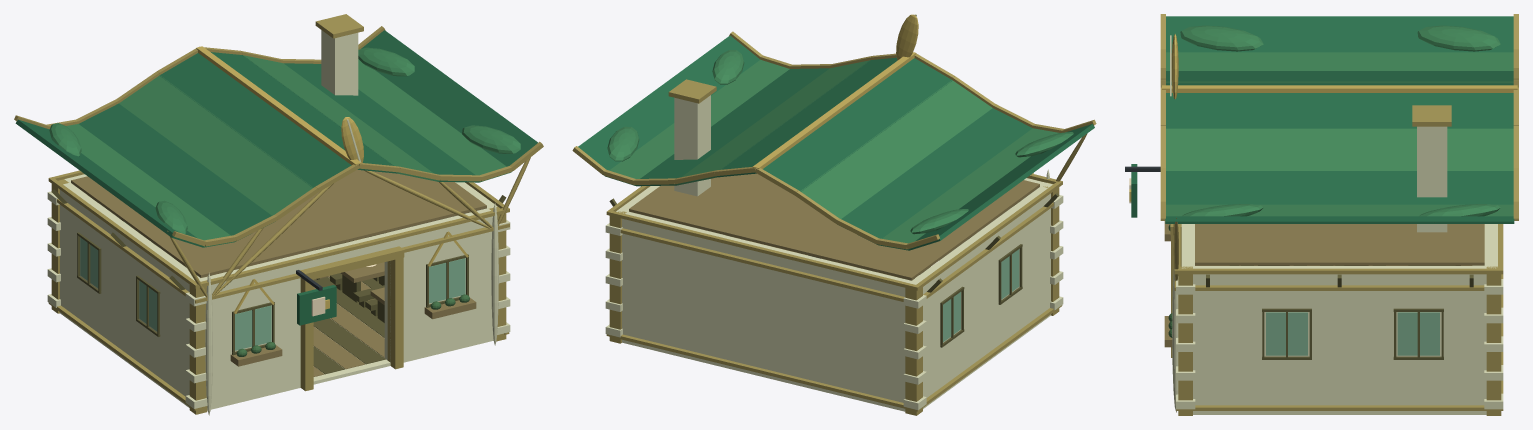
The model's file is Tavern.glb.
3 renders of one model, left to right at view 1: azimuth 30°, elevation 25°; view 2: azimuth 150°, elevation 25°; view 3: azimuth 270°, elevation 25°, orthographic. The views are drawn at different scales.
Parts seen in each view (by area): view 1: Tavern_095_Ceiling, Tavern_002_Side, Tavern_257_ProfileRoof, Tavern_040_FrontWing, Tavern_003_FrontWing, Tavern_254_ProfileRoof, Tavern_260_ProfileRoof, Tavern_281_ProfileRoof, Tavern_278_ProfileRoof, Tavern_275_ProfileRoof, Tavern_263_ProfileRoof, Tavern_272_ProfileRoof (+39 smaller); view 2: Tavern_001_Rear, Tavern_095_Ceiling, Tavern_002_Side, Tavern_257_ProfileRoof, Tavern_254_ProfileRoof, Tavern_260_ProfileRoof, Tavern_281_ProfileRoof, Tavern_275_ProfileRoof, Tavern_278_ProfileRoof, Tavern_272_ProfileRoof, Tavern_263_ProfileRoof, Tavern_269_ProfileRoof (+21 smaller); view 3: Tavern_039_Side, Tavern_272_ProfileRoof, Tavern_095_Ceiling, Tavern_269_ProfileRoof, Tavern_275_ProfileRoof, Tavern_266_ProfileRoof, Tavern_263_ProfileRoof, Tavern_260_ProfileRoof, Tavern_278_ProfileRoof, Tavern_281_ProfileRoof, Tavern_284_Ridge, Tavern_303_KitchenFlue (+19 smaller).
Boxes of the visible parts, bbox=[...] form: Tavern_095_Ceiling: bbox=[71, 169, 486, 277]; Tavern_002_Side: bbox=[60, 179, 203, 407]; Tavern_257_ProfileRoof: bbox=[119, 75, 313, 215]; Tavern_040_FrontWing: bbox=[384, 207, 492, 362]; Tavern_003_FrontWing: bbox=[201, 253, 308, 409]; Tavern_254_ProfileRoof: bbox=[159, 53, 351, 187]; Tavern_260_ProfileRoof: bbox=[79, 103, 273, 241]; Tavern_281_ProfileRoof: bbox=[361, 30, 537, 172]; Tavern_278_ProfileRoof: bbox=[358, 59, 510, 182]; Tavern_275_ProfileRoof: bbox=[284, 63, 479, 182]; Tavern_263_ProfileRoof: bbox=[49, 124, 234, 247]; Tavern_272_ProfileRoof: bbox=[243, 55, 438, 181]; Tavern_001_Rear: bbox=[622, 212, 918, 411]; Tavern_095_Ceiling: bbox=[629, 173, 1039, 280]; Tavern_002_Side: bbox=[909, 186, 1050, 408]; Tavern_257_ProfileRoof: bbox=[800, 80, 992, 218]; Tavern_254_ProfileRoof: bbox=[763, 58, 952, 191]; Tavern_260_ProfileRoof: bbox=[837, 108, 1032, 245]; Tavern_281_ProfileRoof: bbox=[578, 35, 760, 176]; Tavern_275_ProfileRoof: bbox=[636, 68, 829, 186]; Tavern_278_ProfileRoof: bbox=[605, 59, 789, 185]; Tavern_272_ProfileRoof: bbox=[676, 60, 869, 185]; Tavern_263_ProfileRoof: bbox=[879, 128, 1058, 250]; Tavern_269_ProfileRoof: bbox=[717, 57, 897, 177]; Tavern_039_Side: bbox=[1181, 266, 1497, 414]; Tavern_272_ProfileRoof: bbox=[1166, 128, 1513, 170]; Tavern_095_Ceiling: bbox=[1195, 224, 1484, 265]; Tavern_269_ProfileRoof: bbox=[1166, 93, 1513, 128]; Tavern_275_ProfileRoof: bbox=[1166, 171, 1513, 204]; Tavern_266_ProfileRoof: bbox=[1166, 16, 1513, 52]; Tavern_263_ProfileRoof: bbox=[1166, 52, 1513, 70]; Tavern_260_ProfileRoof: bbox=[1166, 71, 1513, 81]; Tavern_278_ProfileRoof: bbox=[1166, 204, 1513, 216]; Tavern_281_ProfileRoof: bbox=[1165, 216, 1514, 223]; Tavern_284_Ridge: bbox=[1162, 85, 1517, 92]; Tavern_303_KitchenFlue: bbox=[1417, 126, 1447, 232].
Size of the model in its own units: 36.28 by 24.92 by 29.9.
